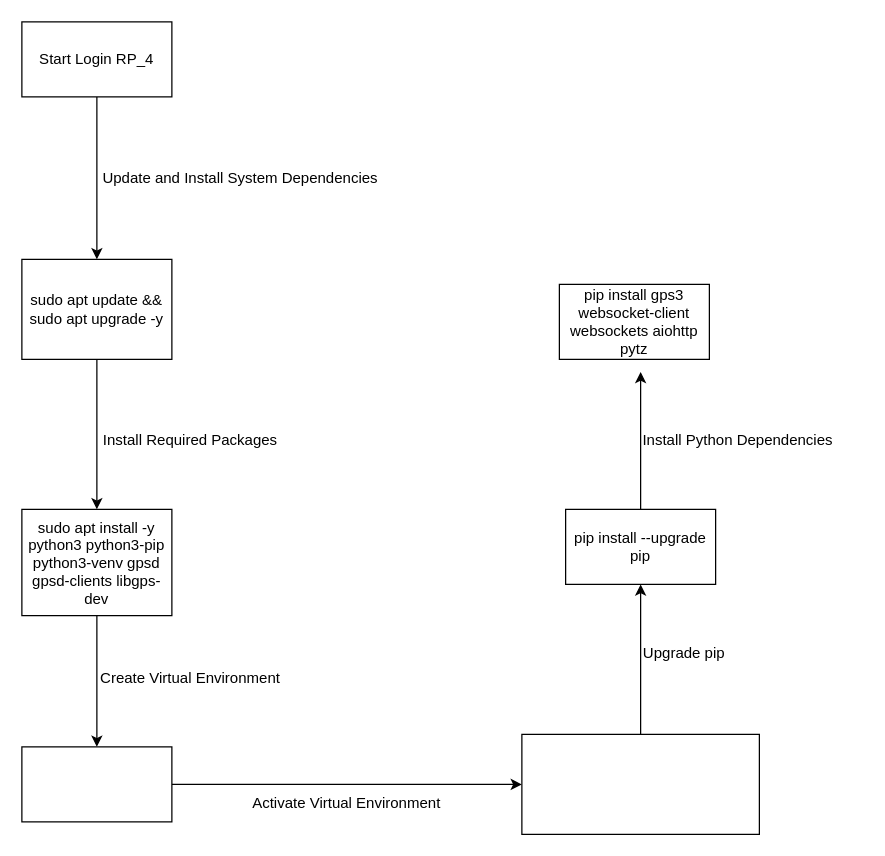
Some shapes in this 885 by 856 pixel diagram are drawn without their labels. Here are the shapes that lost their labels. From the top down, the centre of each, then its label:
At (96,784): "python3 -m venv /home/pi/gps_venv".
At (640,783): "source /home/pi/gps_venv/bin/activate".
